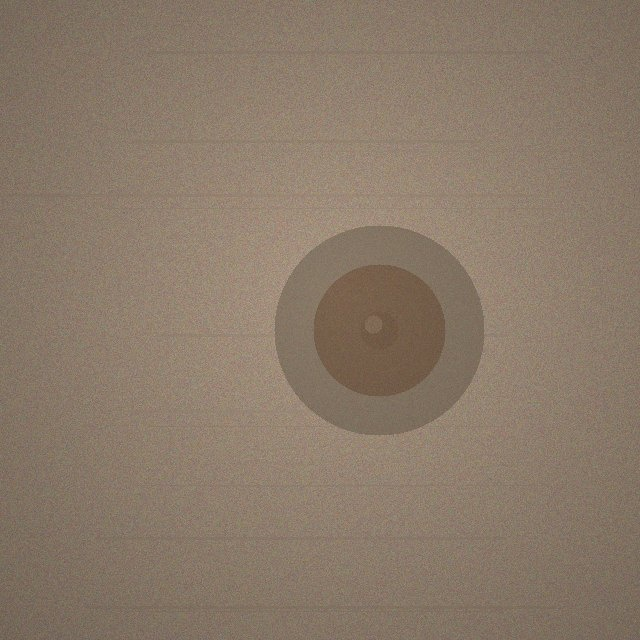good: (274, 225, 484, 435)
